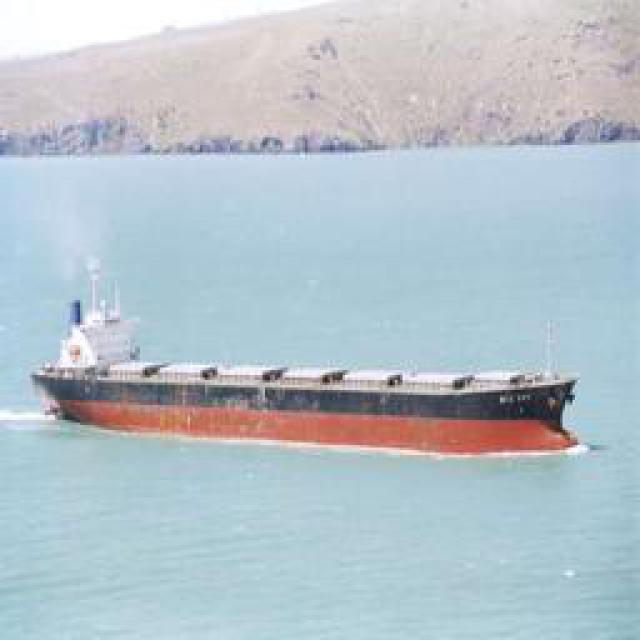Ship: (36, 259, 591, 449)
